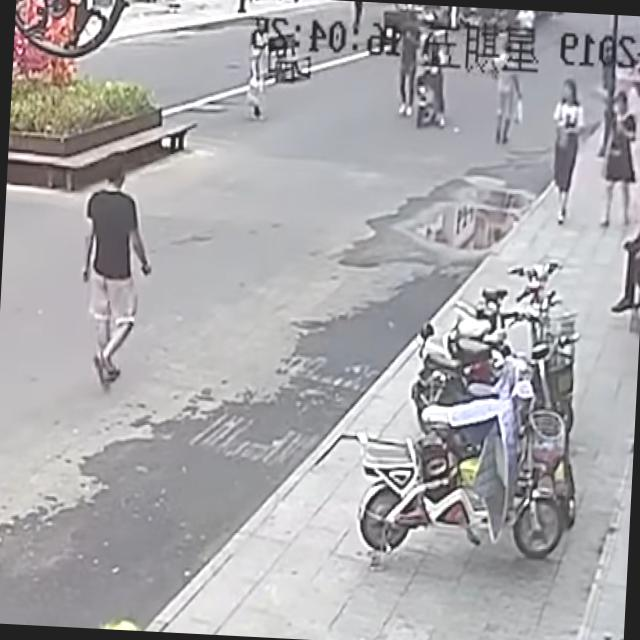person: (74, 156, 157, 392), (596, 89, 640, 231), (546, 76, 588, 224), (490, 38, 527, 146), (392, 14, 425, 120), (414, 33, 450, 128), (610, 216, 640, 327), (241, 30, 272, 120)
